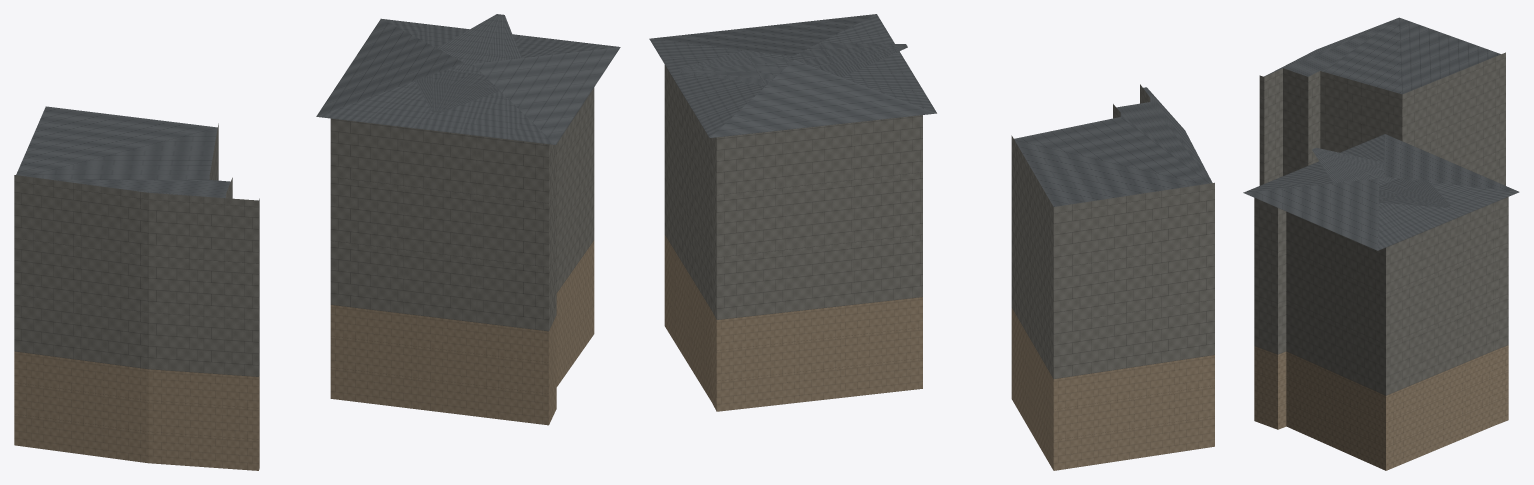
File: bld_c-7_36_388.gltf
3 views of the same model, side by side, from view 1: azimuth 30°, elevation 25°; view 2: azimuth 150°, elevation 25°; view 3: azimuth 270°, elevation 25° (orthographic). The views are drawn at different scales.
Parts seen in each view (by area): view 1: bld_c-7_36_388; view 2: bld_c-7_36_388; view 3: bld_c-7_36_388.
Part boxes in pixels (left/top/right/bottom): bld_c-7_36_388: left=14, top=14, right=620, bottom=470; bld_c-7_36_388: left=649, top=14, right=1214, bottom=470; bld_c-7_36_388: left=1243, top=17, right=1519, bottom=470.
Size of the model in its own units: 33.69 by 16.5 by 17.04.
4 materials, 4 textured.
